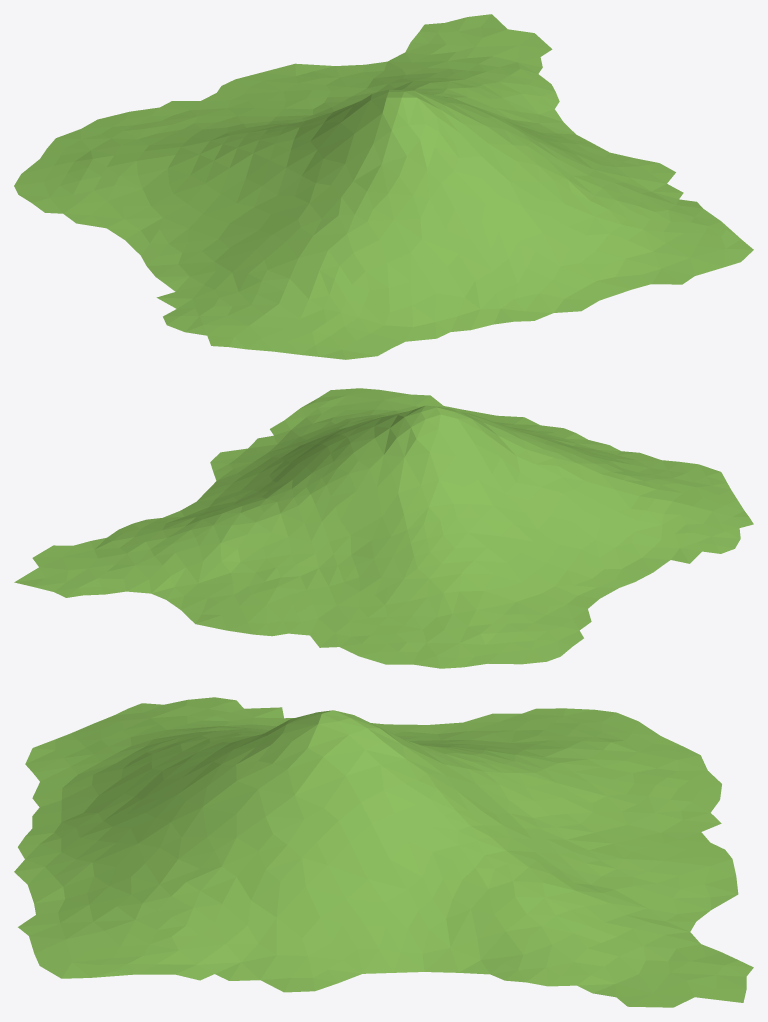
Rendered from MT_Mountain_L_a_06_LOD.fbx.
3 views of the same model, one above another, from view 1: azimuth 30°, elevation 25°; view 2: azimuth 150°, elevation 25°; view 3: azimuth 270°, elevation 25° (orthographic). The views are drawn at different scales.
Parts seen in each view (by area): view 1: MT_Mountain_L_a_06_LOD0; view 2: MT_Mountain_L_a_06_LOD0; view 3: MT_Mountain_L_a_06_LOD0.
Boxes of the visible parts, x1,y1,x2,y2 form: MT_Mountain_L_a_06_LOD0: (14, 14, 753, 359); MT_Mountain_L_a_06_LOD0: (14, 388, 753, 668); MT_Mountain_L_a_06_LOD0: (14, 697, 753, 1007).
Size of what is drawn, in the model's own units: 8301 by 1733 by 8338.
